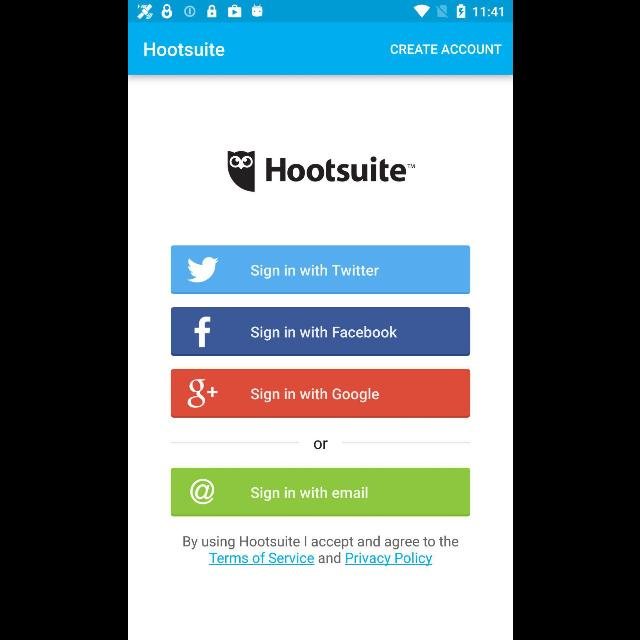image: (226, 152, 414, 192)
text: (182, 536, 458, 566), (144, 42, 224, 56), (390, 44, 500, 54), (313, 440, 327, 450)
textbutton: (170, 368, 470, 418), (170, 468, 470, 516), (170, 308, 470, 356), (170, 246, 470, 294)
toolbar: (128, 23, 512, 75)
uppertaskbar: (128, 1, 512, 23)
